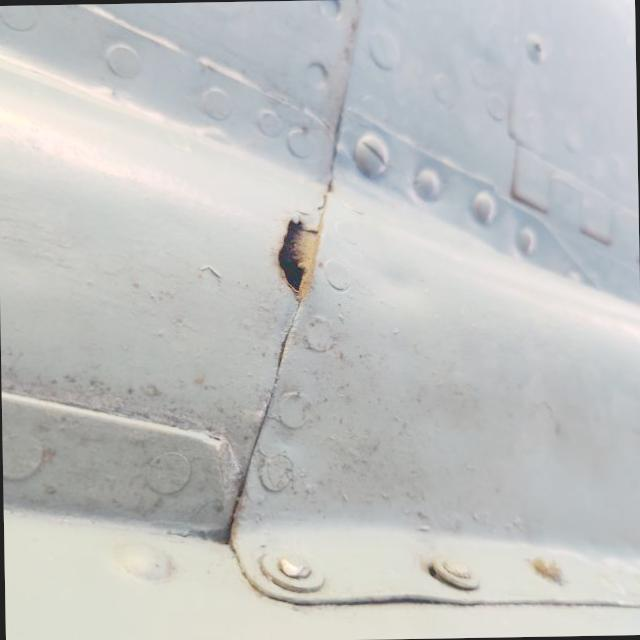crack: (321, 261, 448, 340)
